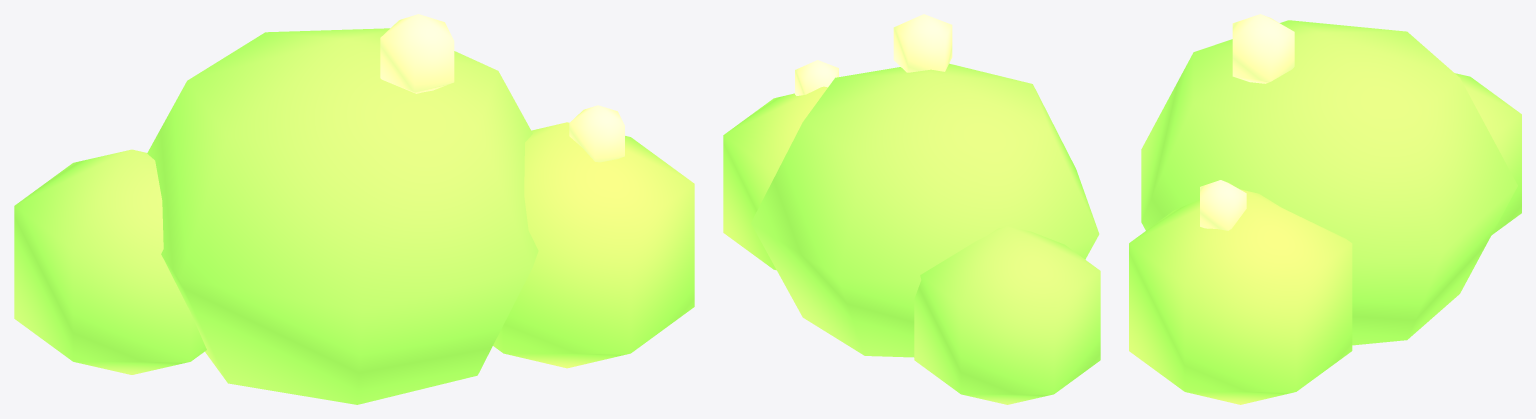
Rendered from dc_spore_sac_big.glb.
3 views of the same model, side by side, from view 1: azimuth 30°, elevation 25°; view 2: azimuth 150°, elevation 25°; view 3: azimuth 270°, elevation 25° (orthographic). The views are drawn at different scales.
Parts seen in each view (by area): view 1: part.dc_spore_sac_big; view 2: part.dc_spore_sac_big; view 3: part.dc_spore_sac_big.
Part boxes in pixels (x1,y1,x2,y2): part.dc_spore_sac_big: [14, 14, 694, 404]; part.dc_spore_sac_big: [723, 14, 1100, 404]; part.dc_spore_sac_big: [1129, 14, 1521, 404].
Size of the model in its own units: 0.5275 by 0.38 by 0.3965.
